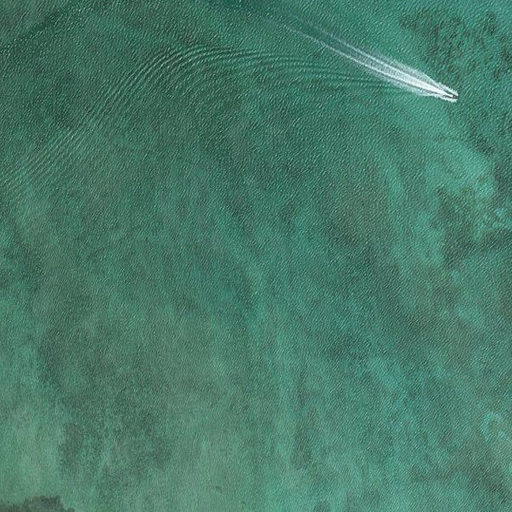ship: (452, 94, 458, 99)
